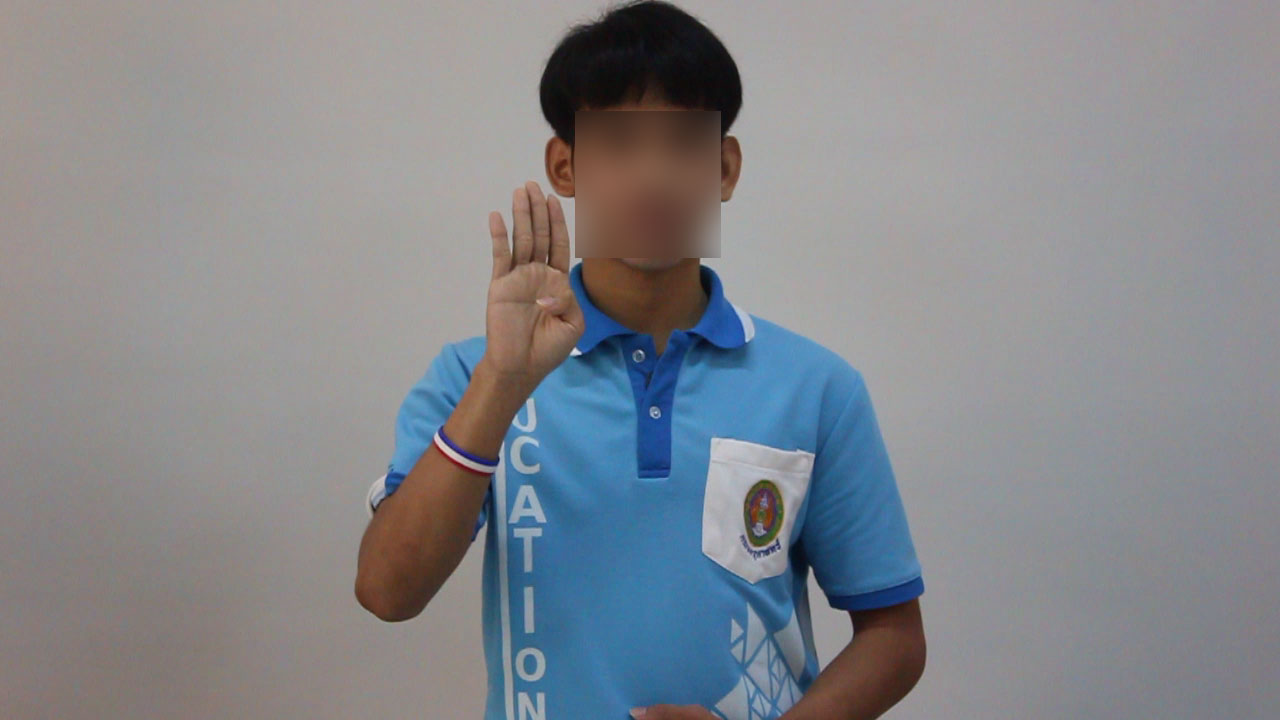bor: (473, 162, 597, 417)
